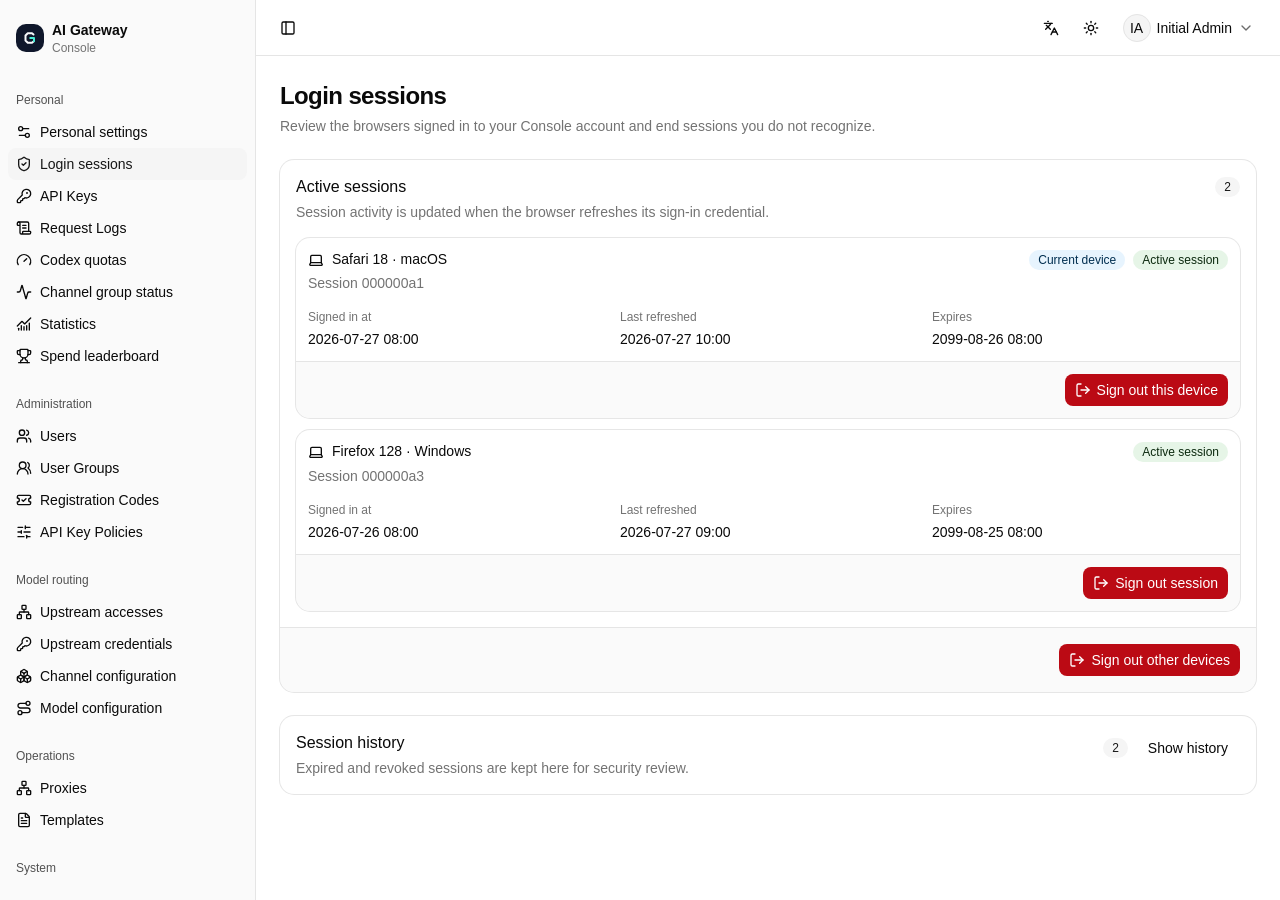
Test: SessionsPage › revokes every other active session while preserving the current one
Click the button "Sign out other devices": coordinates (1150, 660) left=1060, top=644, right=1240, bottom=676
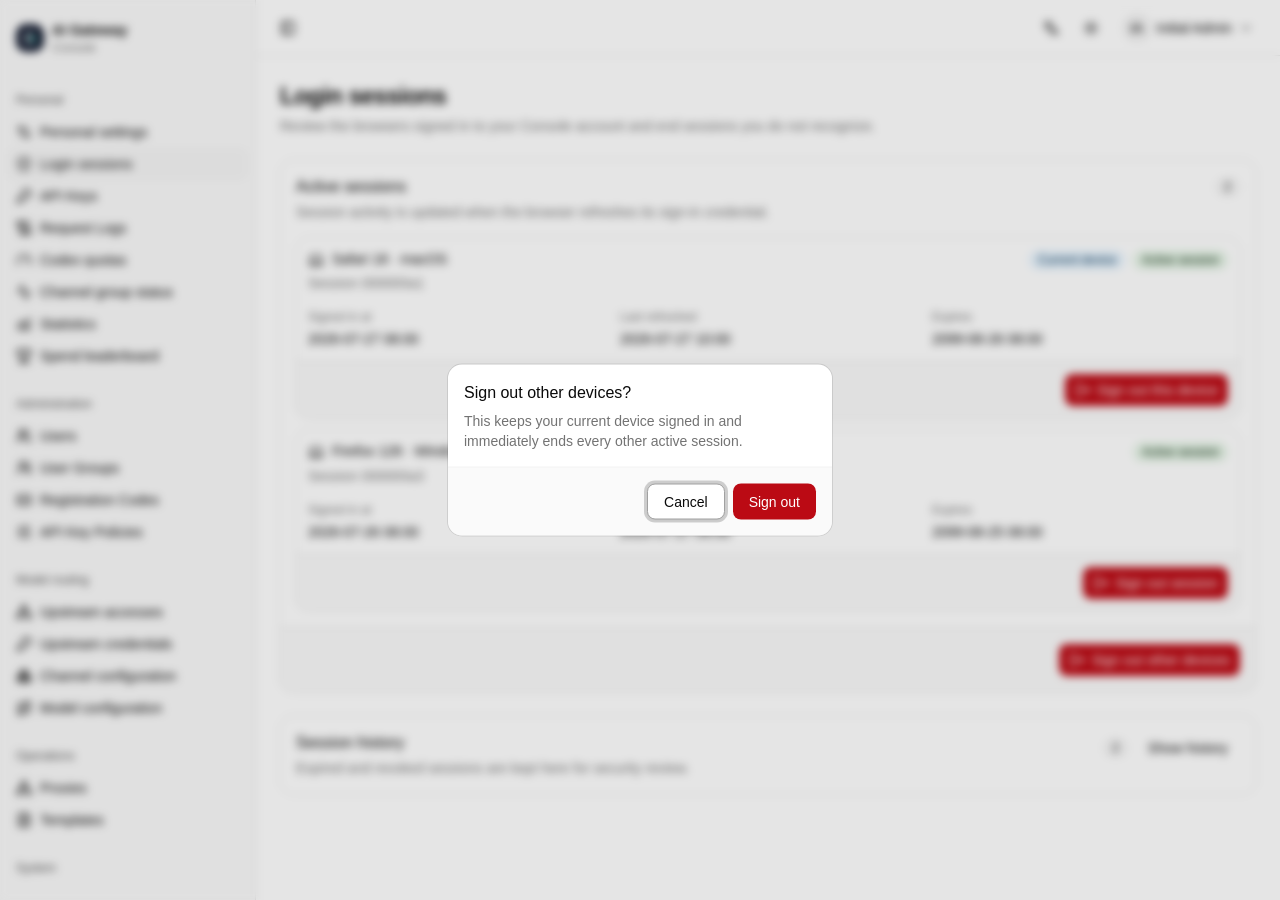
Check: the text "keeps your current device signed in" is shown, box left=464, top=412, right=743, bottom=448
Click the button "Sign out": coordinates (774, 502) left=733, top=484, right=816, bottom=520
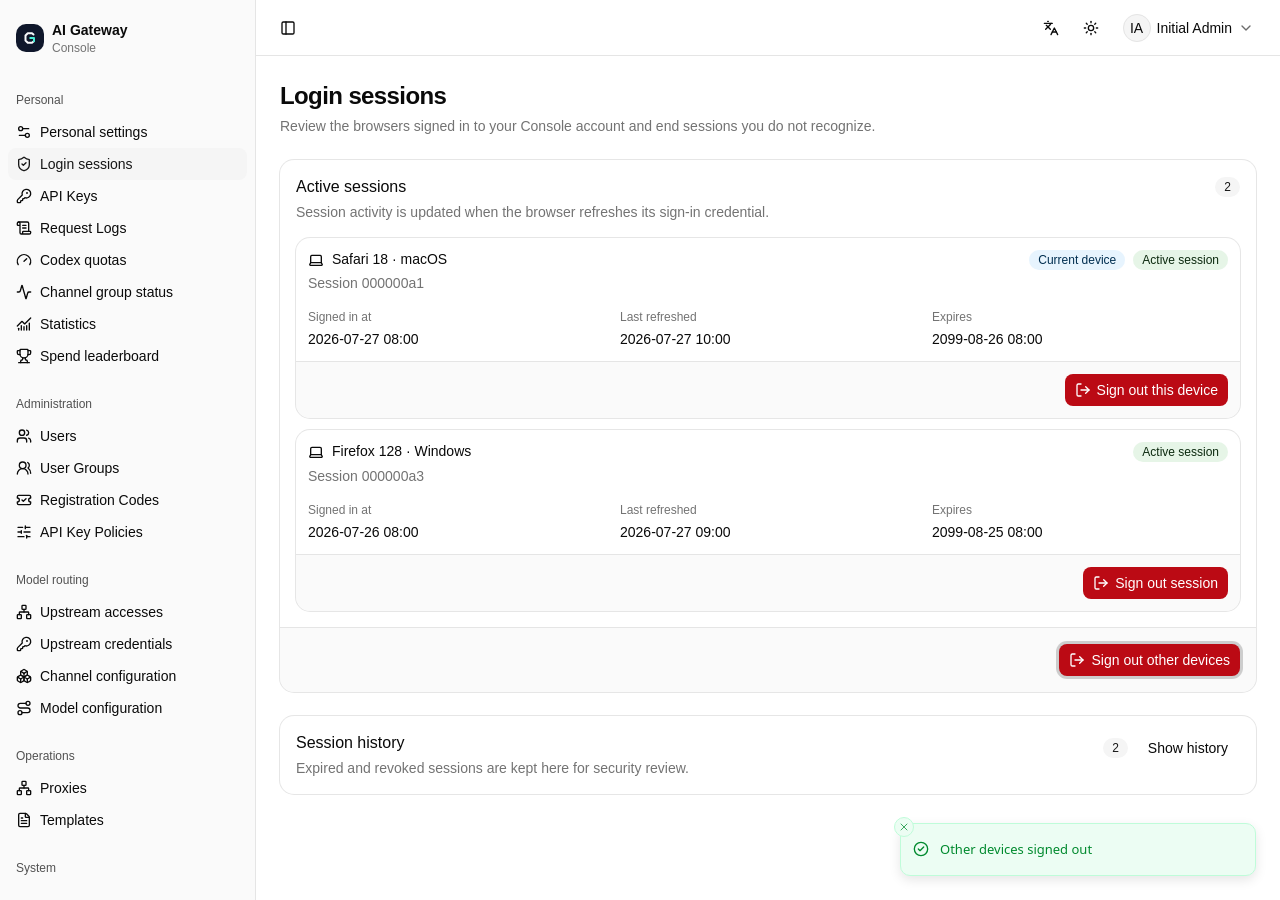
Check: the text "Other devices signed out" is shown, box left=940, top=840, right=1092, bottom=859
